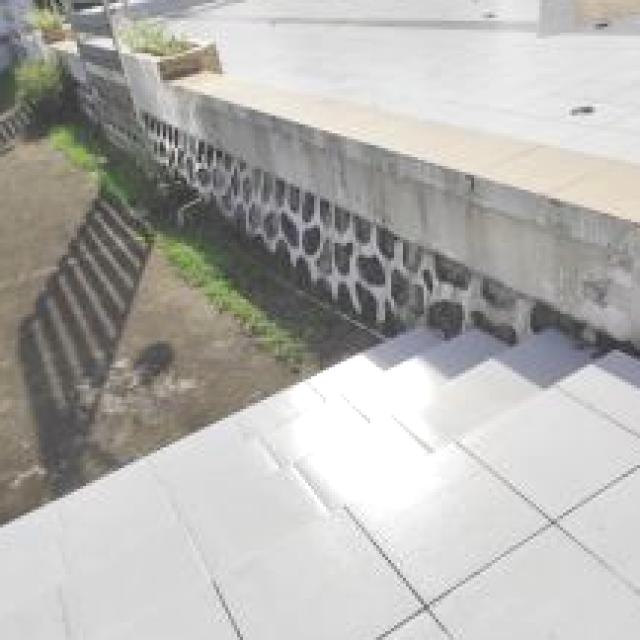downstair: (28, 327, 600, 640)
